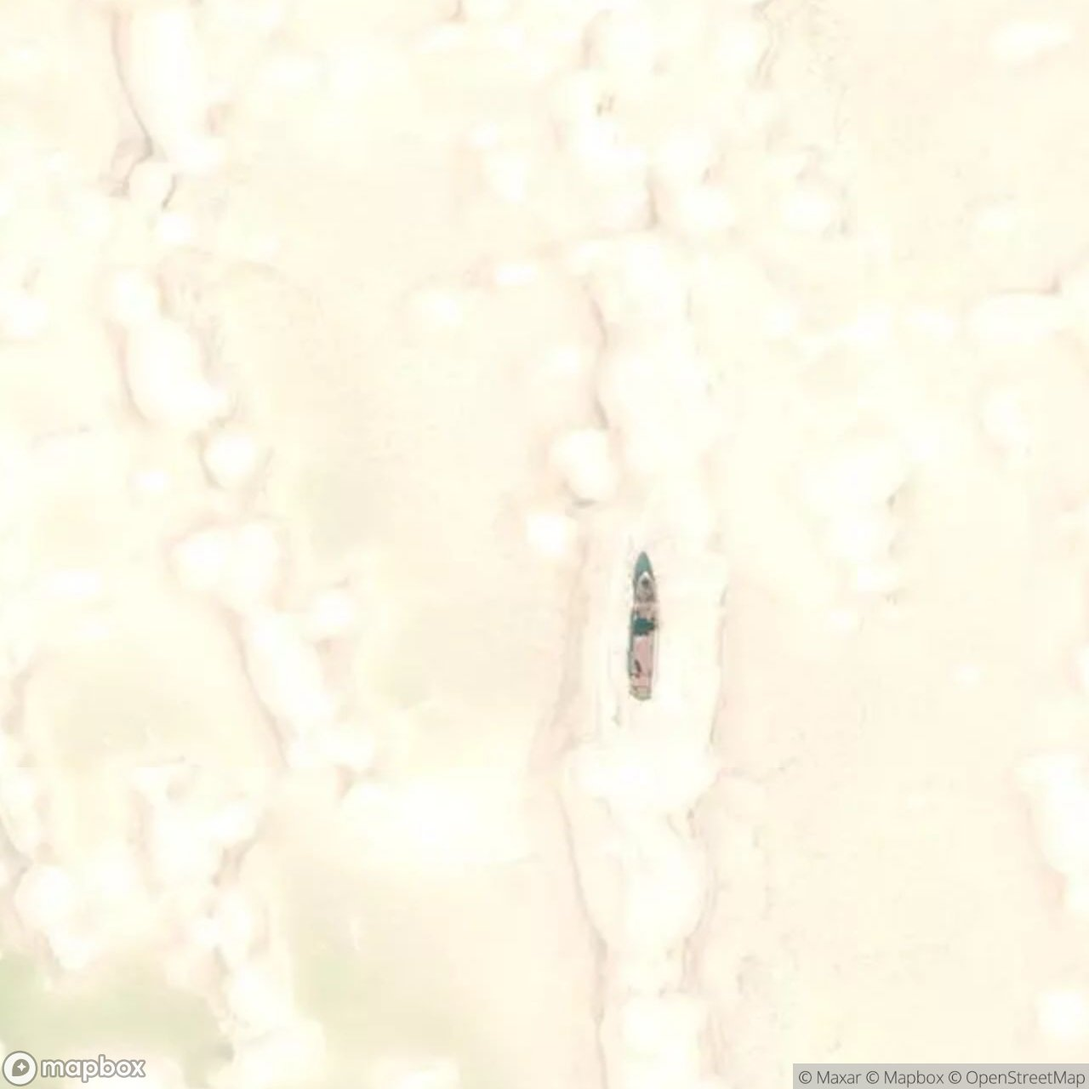Wreck: (582, 512, 695, 752)
